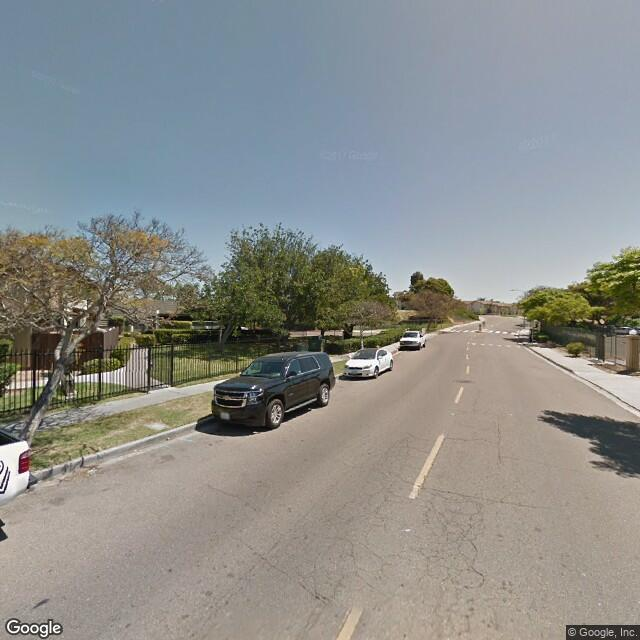litter: (159, 432, 180, 445)
